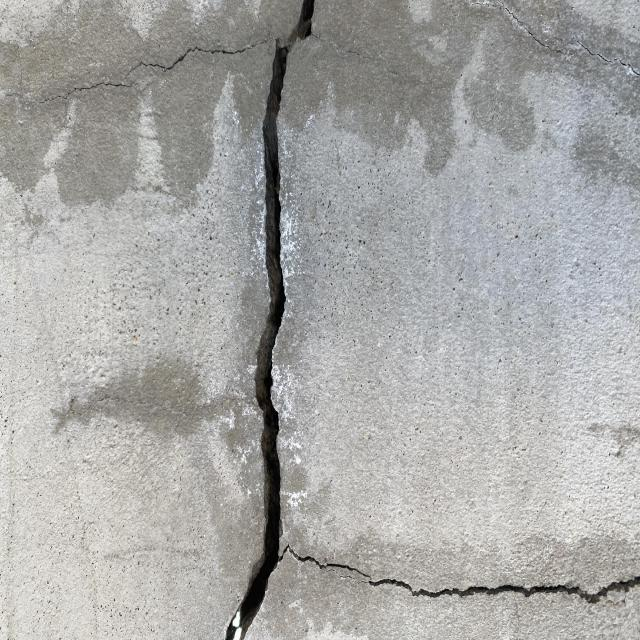SurfaceCrack: (194, 3, 356, 640), (251, 525, 639, 627)
